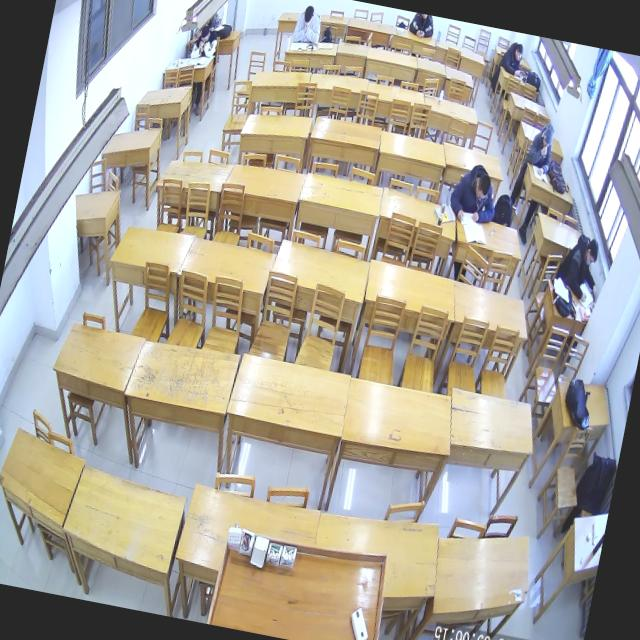down: (472, 172, 492, 203), (584, 238, 601, 268), (541, 125, 555, 149), (302, 4, 315, 27), (198, 25, 212, 44), (513, 43, 525, 62)
sit: (446, 160, 503, 226), (556, 232, 606, 303), (524, 120, 558, 176), (292, 4, 324, 46), (190, 23, 222, 62), (498, 40, 528, 78)
